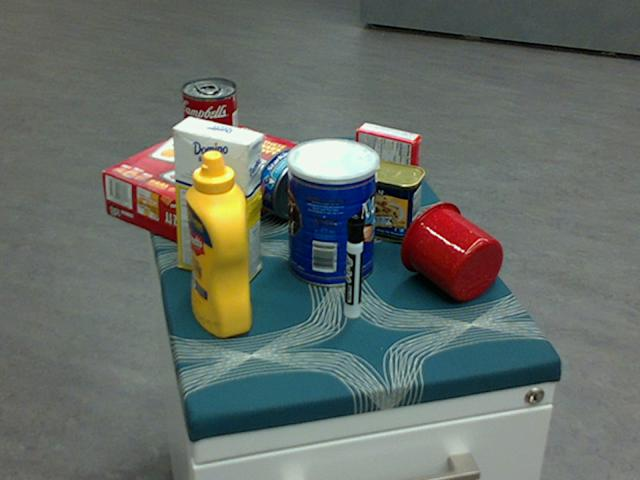cracker_box: (101, 116, 304, 254)
gelatin_box: (355, 123, 421, 189)
large_marker: (345, 215, 363, 319)
master_chef_can: (286, 138, 378, 287)
mug: (400, 201, 503, 300)
mustard_bottle: (185, 150, 251, 337)
potted_meat_can: (339, 156, 424, 240)
sugar_box: (172, 117, 262, 285)
tomato_soup_can: (181, 78, 239, 173)
tuna_fish_can: (254, 148, 319, 218)
